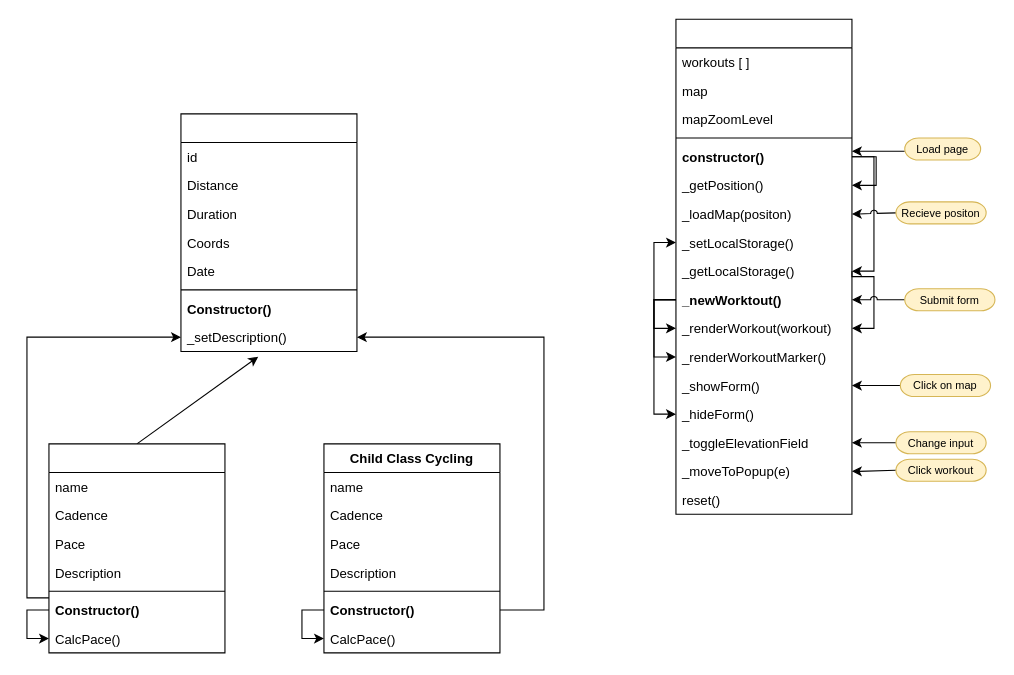
Image size: 1014x675. Some labels were removed from this diagram. The shapes that lost their labels are listed below. From the top down, each one's box as (x1, y1, x2, y2) in pixels, then its label:
(180, 113, 357, 351): Class Workout
(675, 18, 852, 514): Class App
(48, 443, 225, 653): Child Class Runing
